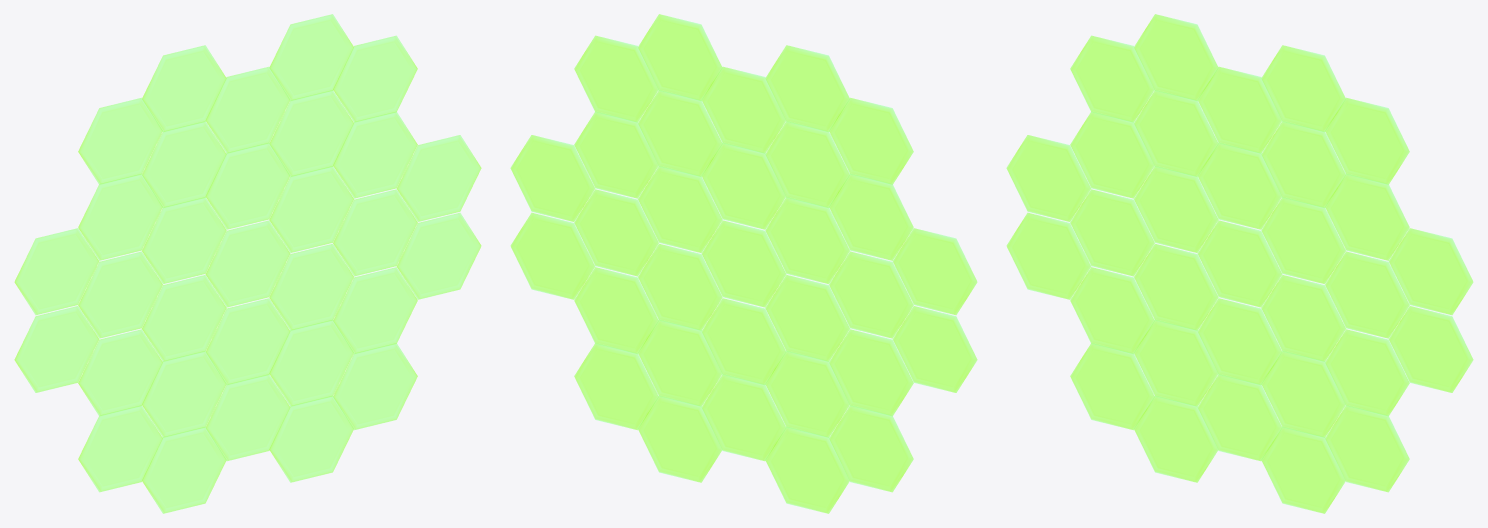
File: Barrier Field.FBX
3 renders of one model, left to right at view 1: azimuth 30°, elevation 25°; view 2: azimuth 150°, elevation 25°; view 3: azimuth 330°, elevation 25°, orthographic.
Parts seen in each view (by area): view 1: Cylinder010, Cylinder014, Cylinder001, Cylinder008, Cylinder015, Cylinder009, Cylinder013, Cylinder003, Cylinder004, Cylinder022, Cylinder005, Cylinder002 (+19 smaller); view 2: Cylinder010, Cylinder014, Cylinder001, Cylinder008, Cylinder015, Cylinder009, Cylinder013, Cylinder003, Cylinder004, Cylinder022, Cylinder005, Cylinder002 (+19 smaller); view 3: Cylinder009, Cylinder013, Cylinder001, Cylinder008, Cylinder015, Cylinder010, Cylinder014, Cylinder003, Cylinder004, Cylinder026, Cylinder002, Cylinder005 (+19 smaller).
Part boxes in pixels (<box>): Cylinder010: <box>396,212,481,299</box>; Cylinder014: <box>14,228,99,315</box>; Cylinder001: <box>205,220,290,307</box>; Cylinder008: <box>333,189,417,276</box>; Cylinder015: <box>78,251,162,338</box>; Cylinder009: <box>396,135,481,221</box>; Cylinder013: <box>14,306,99,392</box>; Cylinder003: <box>269,243,353,330</box>; Cylinder004: <box>142,275,226,361</box>; Cylinder022: <box>78,97,162,184</box>; Cylinder005: <box>142,197,226,284</box>; Cylinder002: <box>269,166,353,252</box>; Cylinder010: <box>510,212,595,299</box>; Cylinder014: <box>892,228,977,315</box>; Cylinder001: <box>701,220,786,307</box>; Cylinder008: <box>574,189,658,276</box>; Cylinder015: <box>829,251,913,338</box>; Cylinder009: <box>510,135,595,221</box>; Cylinder013: <box>892,306,977,392</box>; Cylinder003: <box>638,243,722,330</box>; Cylinder004: <box>765,275,849,361</box>; Cylinder022: <box>829,97,913,184</box>; Cylinder005: <box>765,197,849,284</box>; Cylinder002: <box>638,166,722,252</box>; Cylinder009: <box>1388,228,1473,315</box>; Cylinder013: <box>1006,212,1091,299</box>; Cylinder001: <box>1197,220,1282,307</box>; Cylinder008: <box>1325,251,1409,338</box>; Cylinder015: <box>1070,189,1154,276</box>; Cylinder010: <box>1388,306,1473,392</box>; Cylinder014: <box>1006,135,1091,221</box>; Cylinder003: <box>1261,275,1345,361</box>; Cylinder004: <box>1134,243,1218,330</box>; Cylinder026: <box>1325,97,1409,184</box>; Cylinder002: <box>1261,197,1345,284</box>; Cylinder005: <box>1134,166,1218,252</box>.
Size of the model in its own units: 2640 by 2476 by 23.02.
